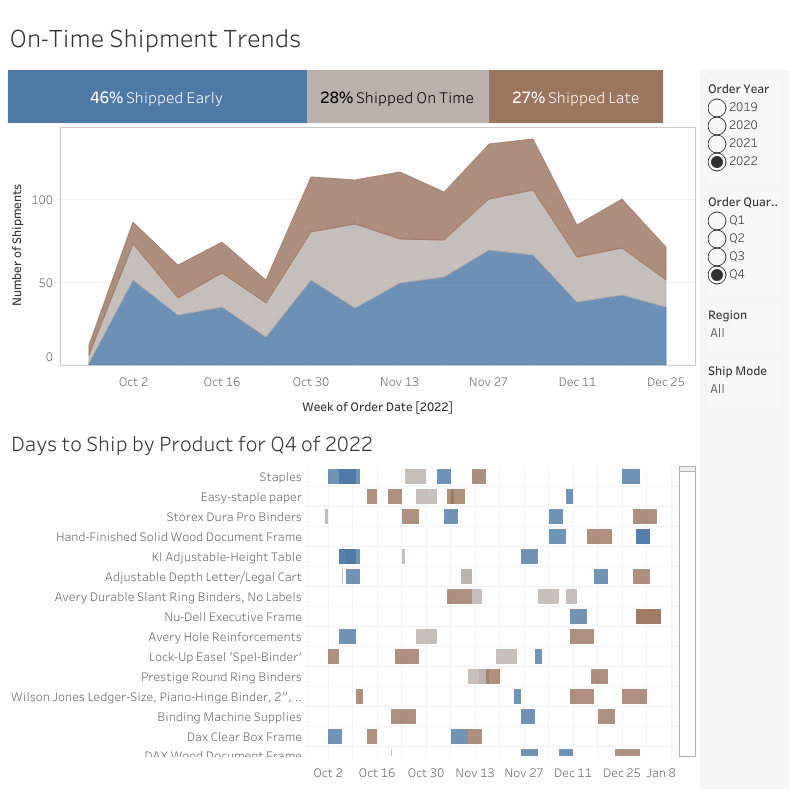

This screenshot's page, from the dashboard's own definition file:
{"tool":"tableau","page":{"name":"Shipping","canvas":[1000,1000],"units":"permille","ordinal":5},"visuals":[{"type":"title","box":[7,9.5,986,73.7]},{"type":"worksheet","title":"ShipSummary","mark":"Automatic","box":[7,83.1,864.3,82.3]},{"type":"filter","title":"ShippingTrend","param":"[federated.10nnk8d1vgmw8q17yu76u06pnbcj].[yr:Order Date:ok]","box":[879.3,94.1,105.7,145.8]},{"type":"worksheet","title":"ShippingTrend","mark":"Area","rows":["Orders_6D2EF74F348B46BDA976A7AEEA6FB5C9"],"cols":["Order Date","Order Date"],"box":[7,165.5,864.3,399.5]},{"type":"filter","title":"ShippingTrend","param":"[federated.10nnk8d1vgmw8q17yu76u06pnbcj].[qr:Order Date:ok]","box":[879.3,239.8,105.7,145.8]},{"type":"filter","title":"ShippingTrend","param":"[federated.10nnk8d1vgmw8q17yu76u06pnbcj].[none:Region:nk]","box":[879.3,385.6,105.7,70.2]},{"type":"filter","title":"ShippingTrend","param":"[federated.10nnk8d1vgmw8q17yu76u06pnbcj].[none:Ship Mode:nk]","box":[879.3,455.8,105.7,70.2]},{"type":"worksheet","title":"DaystoShip","mark":"Automatic","rows":["Product Name"],"cols":["Order Date"],"box":[7,564.9,864.3,425.6]}]}

Visuals, with their boxes on the dashboard's canvas, which has no fixed pixel size, in thousandths of its width and height (x1, y1, x2, y2). These are canvas units, not pixel positions in the 800x800 screenshot, which may show the page scaled, cropped or inside an application window:
title: box(7, 10, 993, 83)
"ShipSummary" worksheet: box(7, 83, 871, 165)
"ShippingTrend" filter: box(879, 94, 985, 240)
"ShippingTrend" worksheet (Area marks): box(7, 166, 871, 565)
"ShippingTrend" filter: box(879, 240, 985, 386)
"ShippingTrend" filter: box(879, 386, 985, 456)
"ShippingTrend" filter: box(879, 456, 985, 526)
"DaystoShip" worksheet: box(7, 565, 871, 990)
